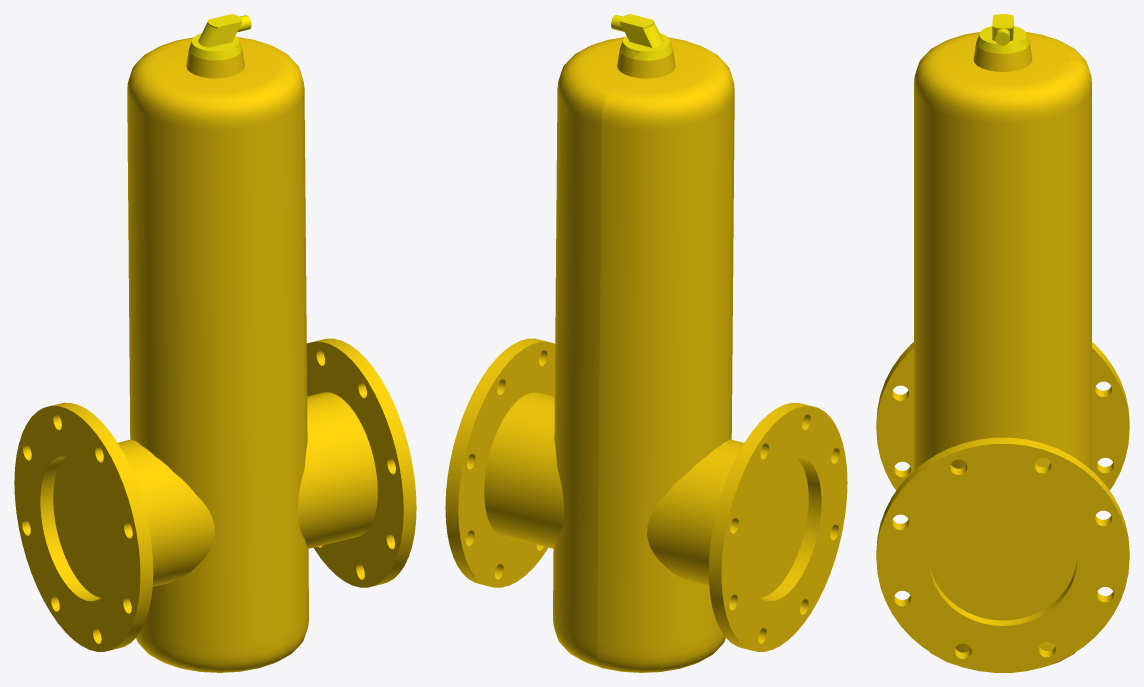
The picture shows the model from 3 angles, left to right: view 1: azimuth 30°, elevation 25°; view 2: azimuth 150°, elevation 25°; view 3: azimuth 270°, elevation 25°; orthographic projection.
Visible parts, largest first — view 1: 3DGeom-1, 3DGeom-5; view 2: 3DGeom-1, 3DGeom-5; view 3: 3DGeom-1, 3DGeom-5.
Part boxes in pixels (x1=…): 3DGeom-1: x1=14, y1=37, x2=416, y2=672; 3DGeom-5: x1=189, y1=14, x2=251, y2=60; 3DGeom-1: x1=445, y1=37, x2=847, y2=672; 3DGeom-5: x1=611, y1=14, x2=672, y2=60; 3DGeom-1: x1=876, y1=32, x2=1129, y2=672; 3DGeom-5: x1=976, y1=14, x2=1029, y2=53.
Bounding box in the file's own units: 43 × 92.51 × 34.
